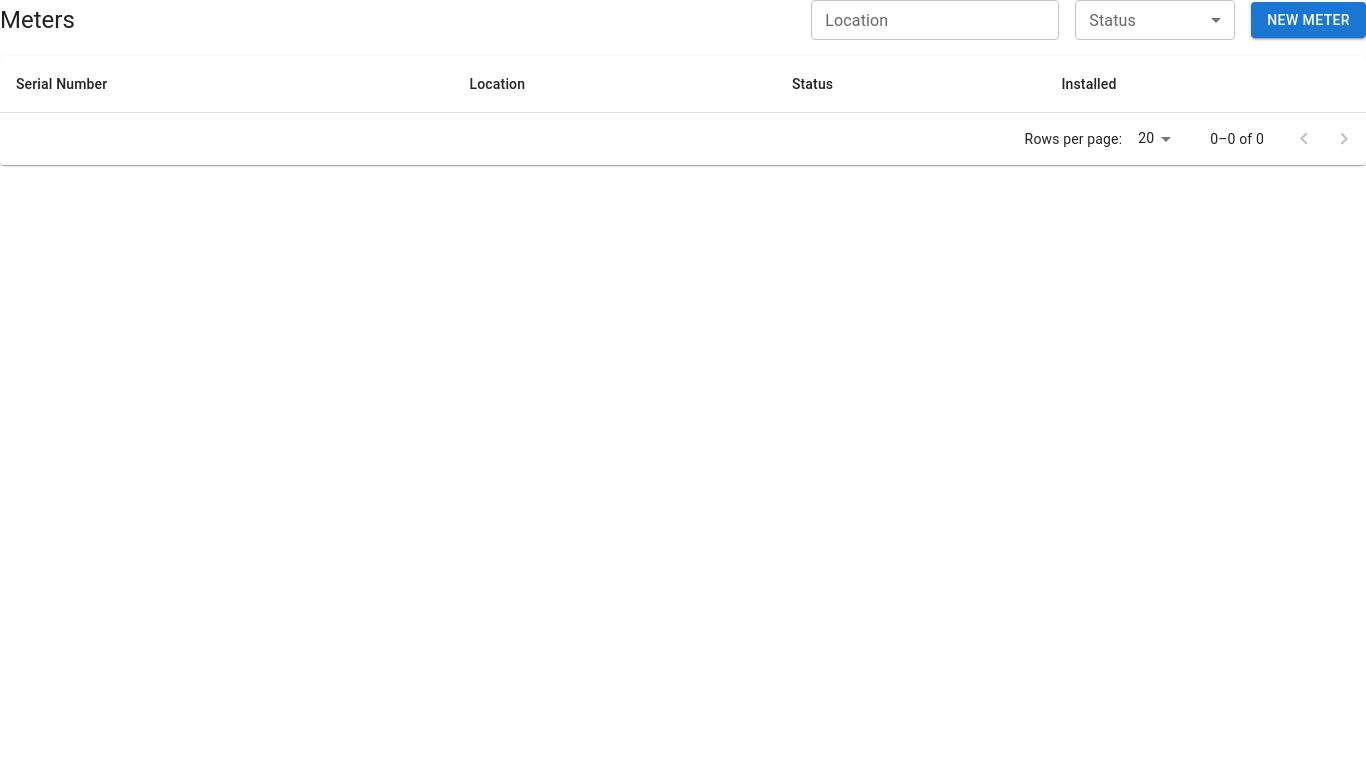
it: MetersPage › creates a meter and closes the dialog on submit
Click the button "New Meter". click: (1309, 20)
box: [1251,2,1365,38]
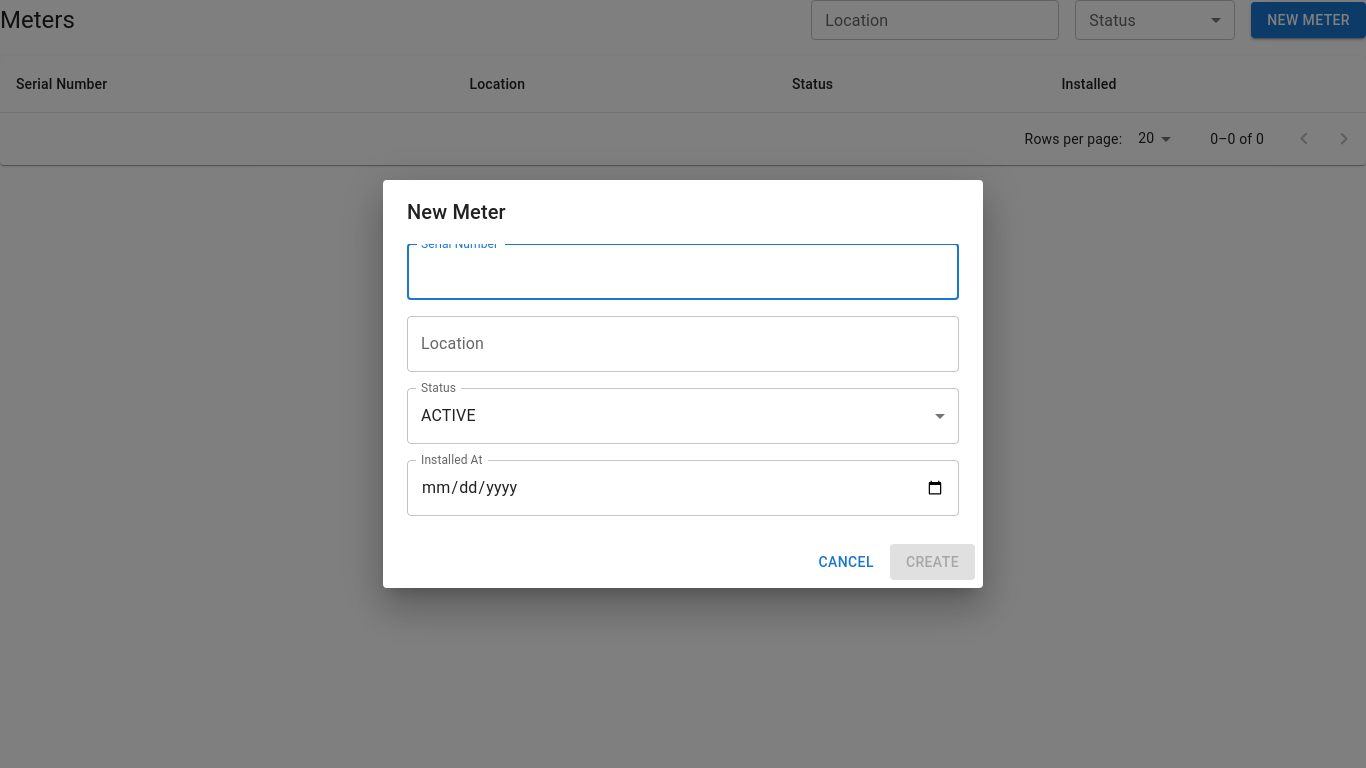
Type "SN-NEW" into the field labelled "Serial Number". click: (683, 272)
box: [407,244,959,300]
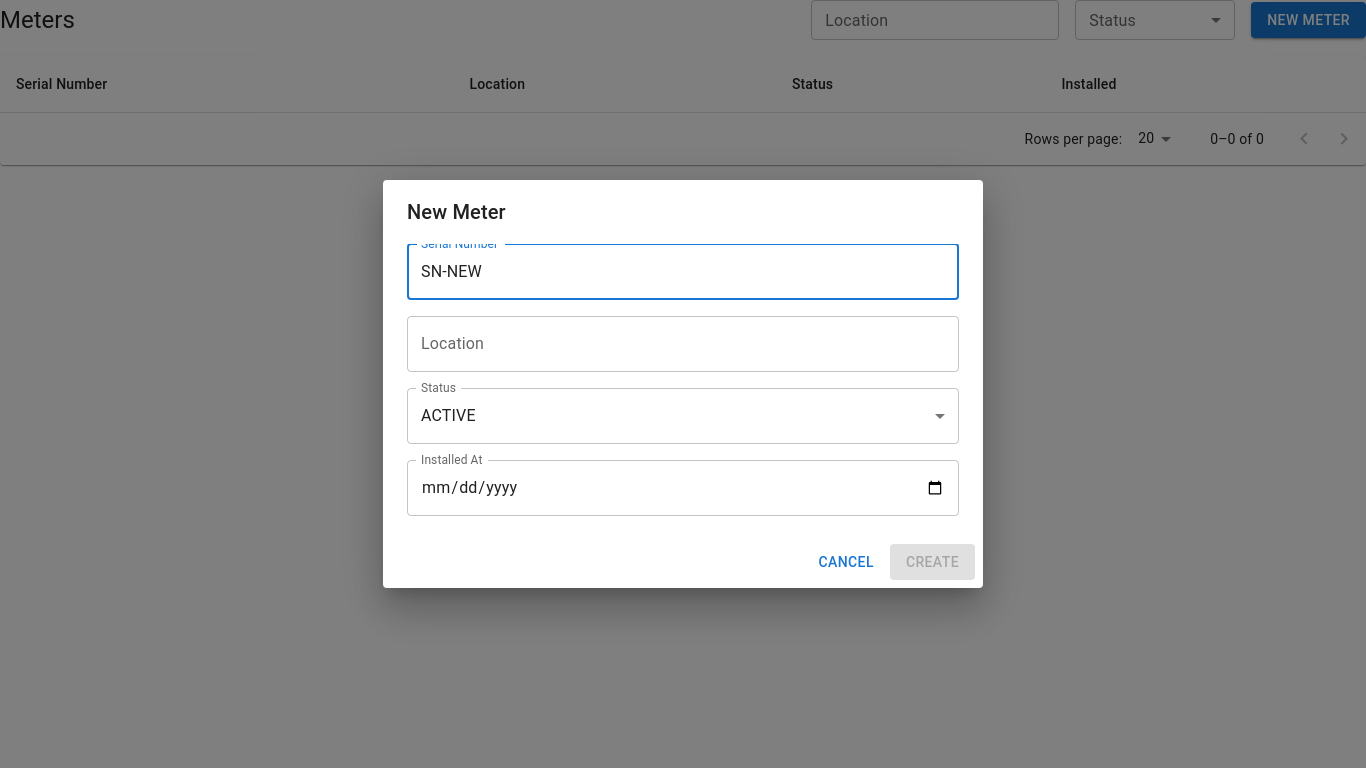
Type "Elm St" into the field labelled "Location". click: (683, 344)
box: [407,316,959,372]
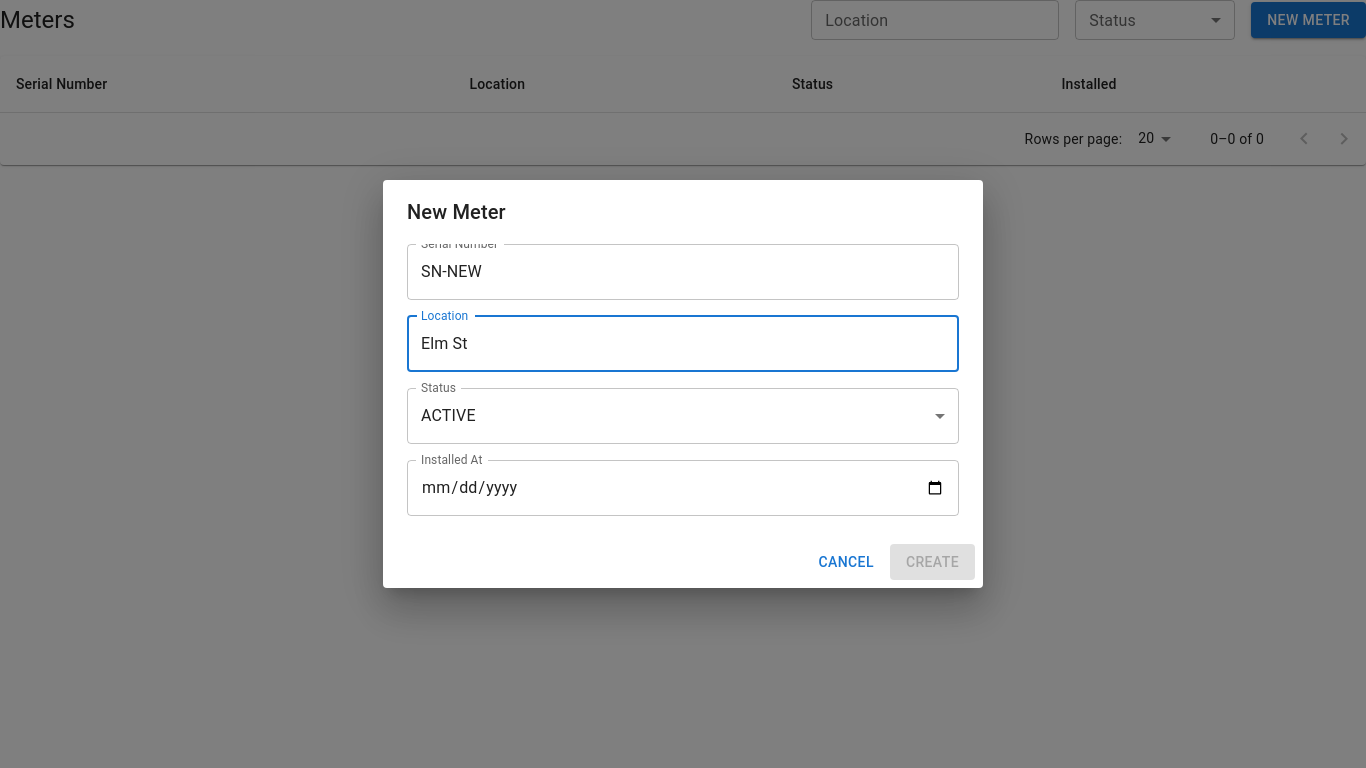
Type "2026-03-01" into the date field labelled "Installed At". click: (683, 488)
box: [407,460,959,516]
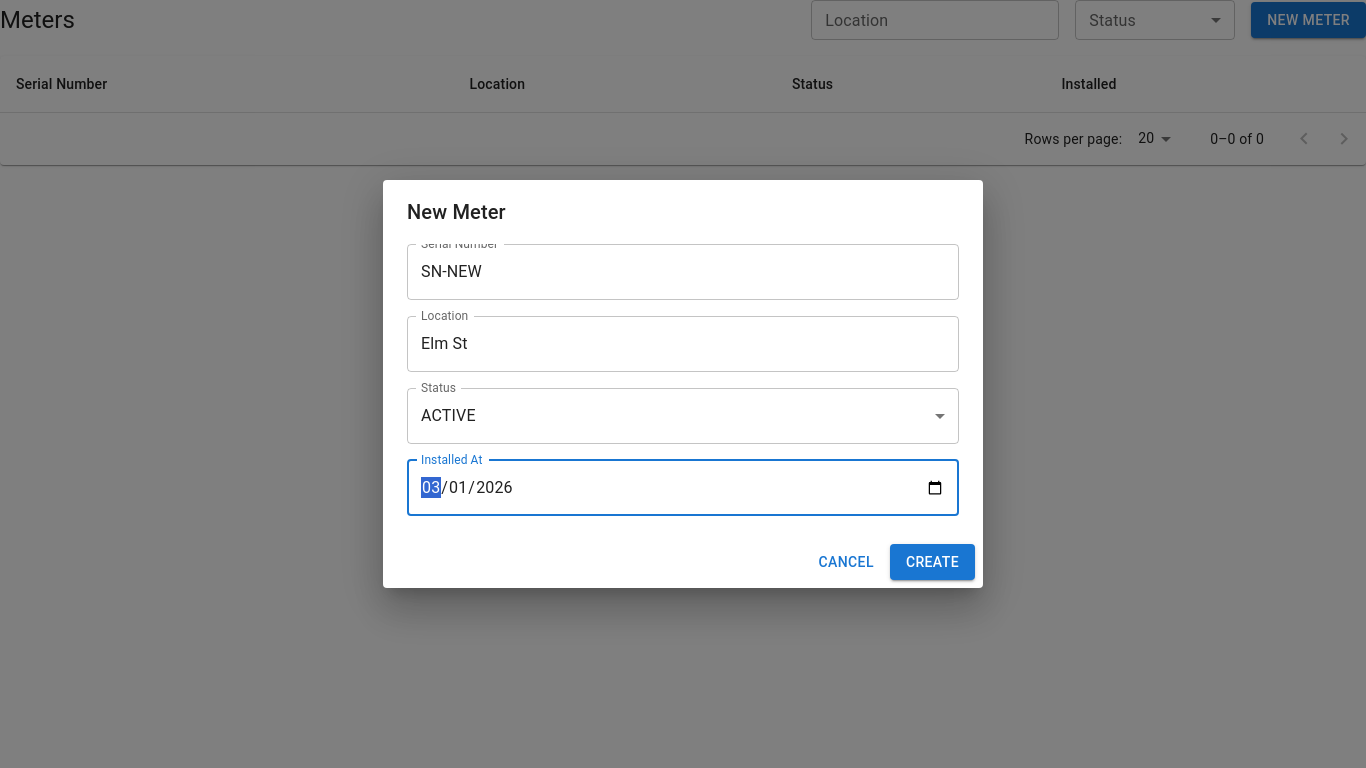
Click the button "Create". click: (932, 562)
box: [890,544,975,580]
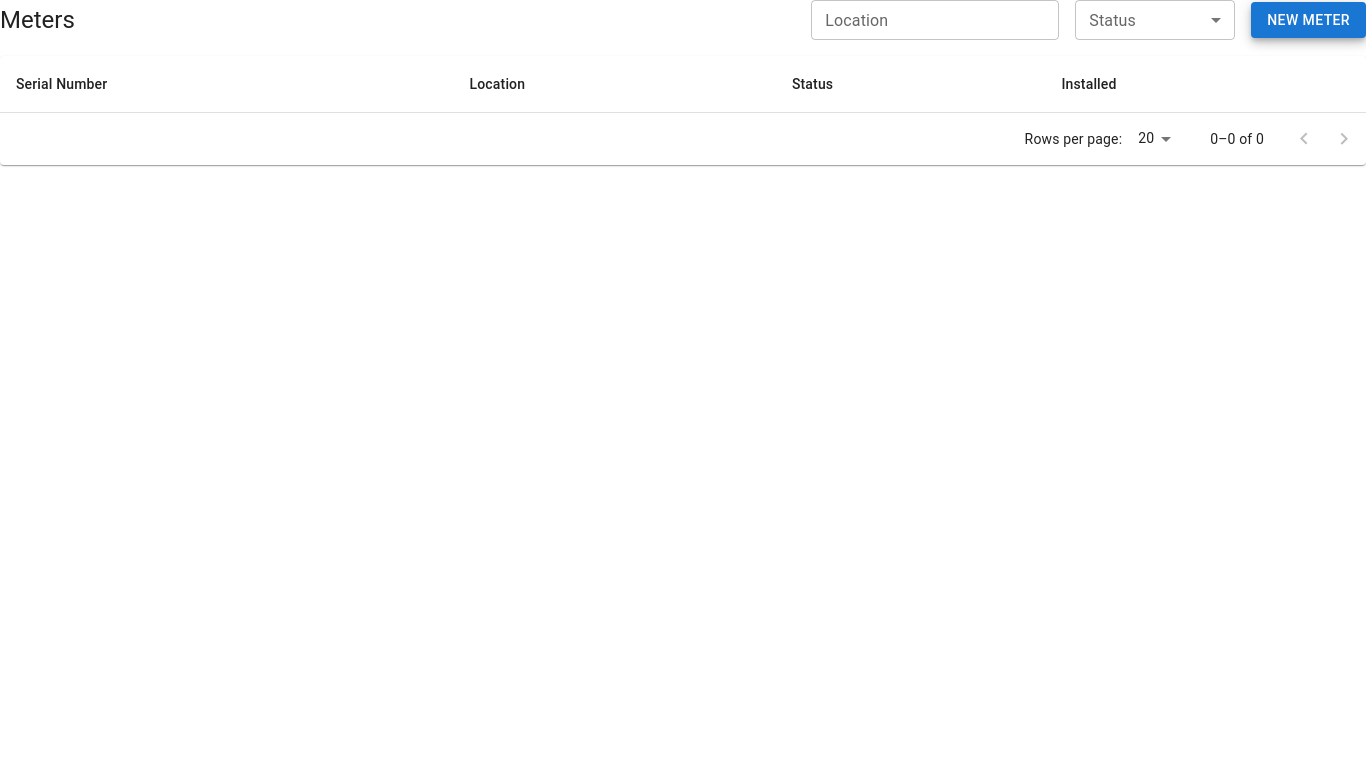
Now the dialog is gone
